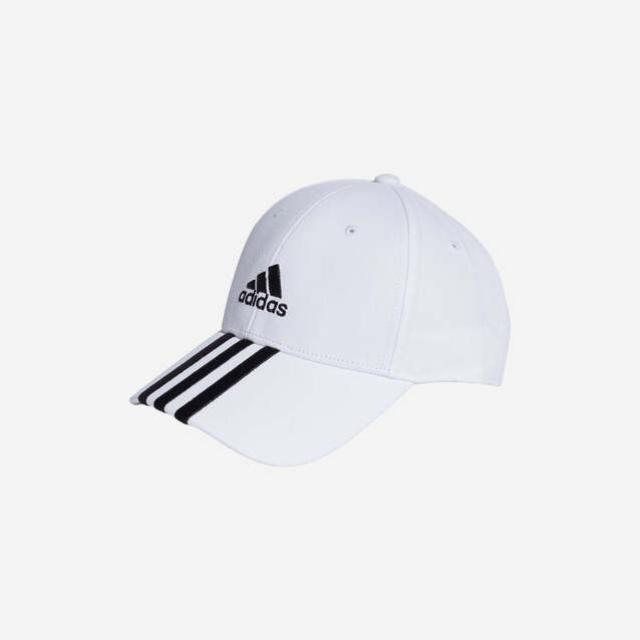Nonhelmet: (126, 168, 514, 470)
